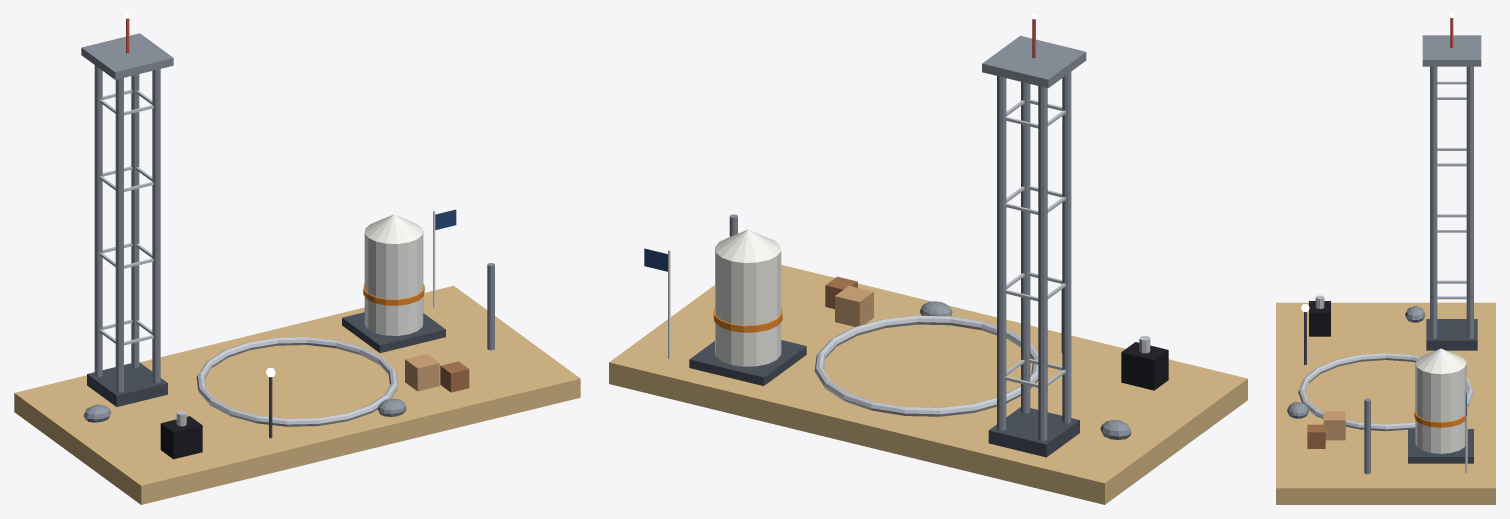
The model's file is site_orbital.glb.
The picture shows the model from 3 angles, left to right: view 1: azimuth 30°, elevation 25°; view 2: azimuth 150°, elevation 25°; view 3: azimuth 270°, elevation 25°; orthographic projection. The views are drawn at different scales.
Parts seen in each view (by area): view 1: site_orbital; view 2: site_orbital; view 3: site_orbital.
Boxes of the visible parts, x1,y1,x2,y2 form: site_orbital: (14, 14, 580, 504); site_orbital: (609, 14, 1247, 504); site_orbital: (1276, 14, 1495, 504).
Bounding box in the file's own units: 12 × 10.31 × 6.
